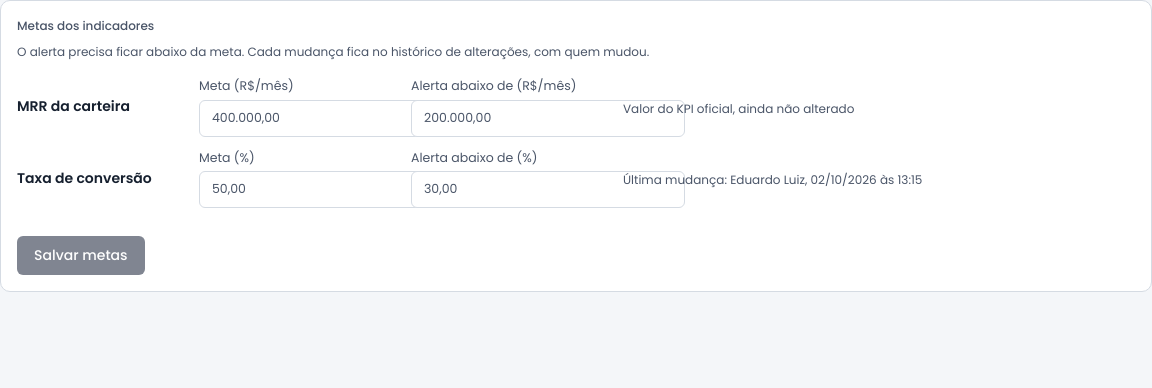
Test: Configurações › Metas › salva os quatro valores e avisa
Replace the text in the field named "Meta do MRR" with "350.000,00" at (336, 118), box [199,100,473,137]
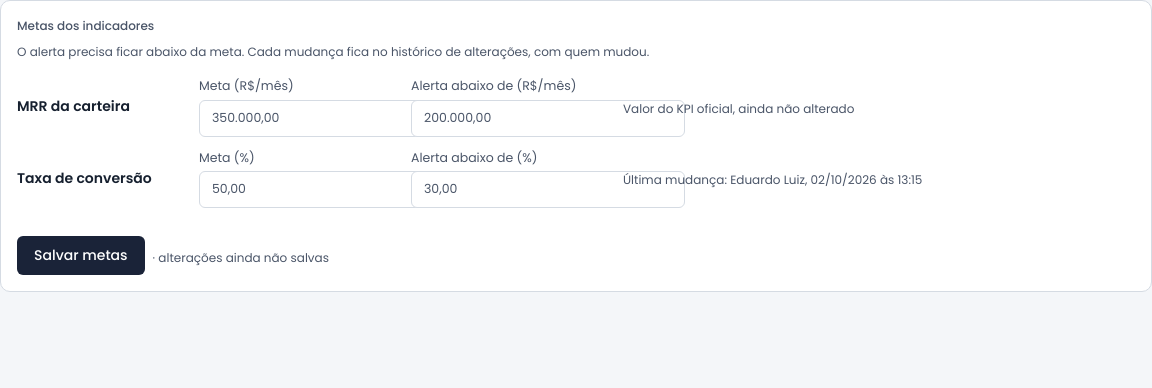
Click the button "Salvar metas".
click(81, 256)  # box [17,236,145,275]
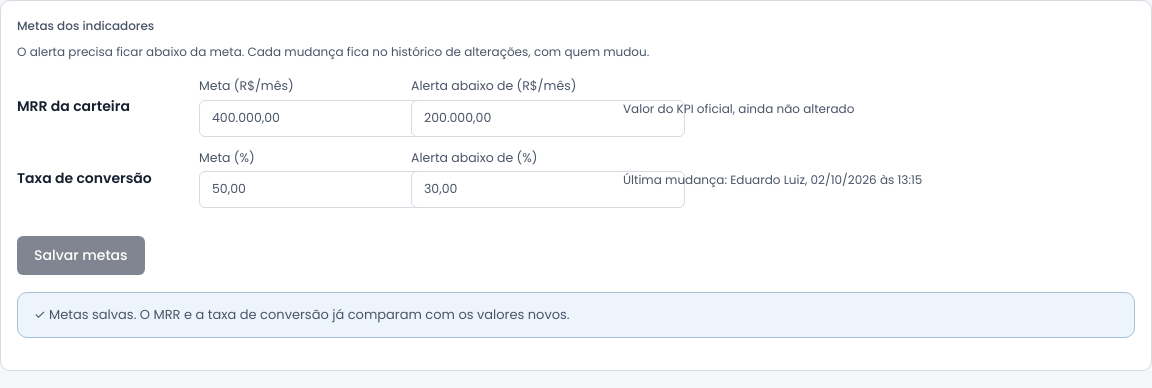
Check: the message shows "Metas salvas", box [49,305,570,324]
